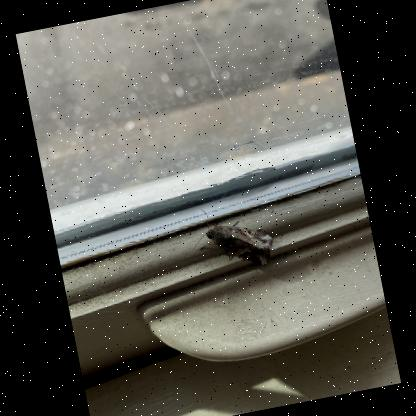Fall Armyworm Moth: (183, 192, 280, 280)
